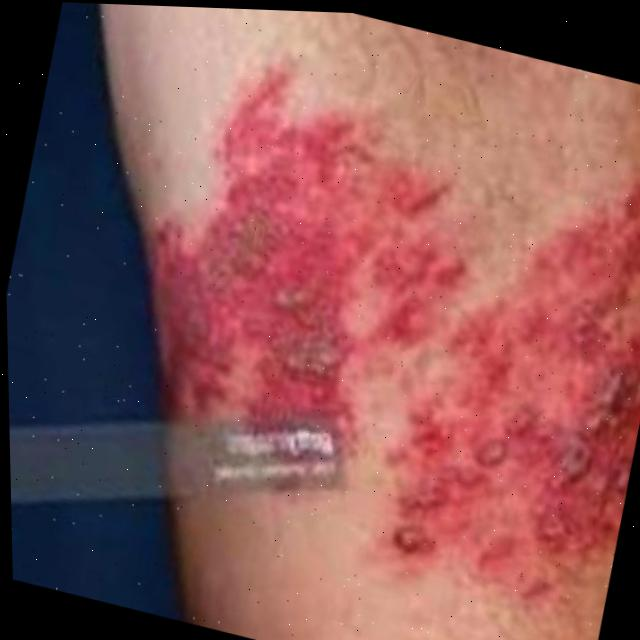Shingles: (105, 45, 505, 516), (357, 136, 640, 604)
